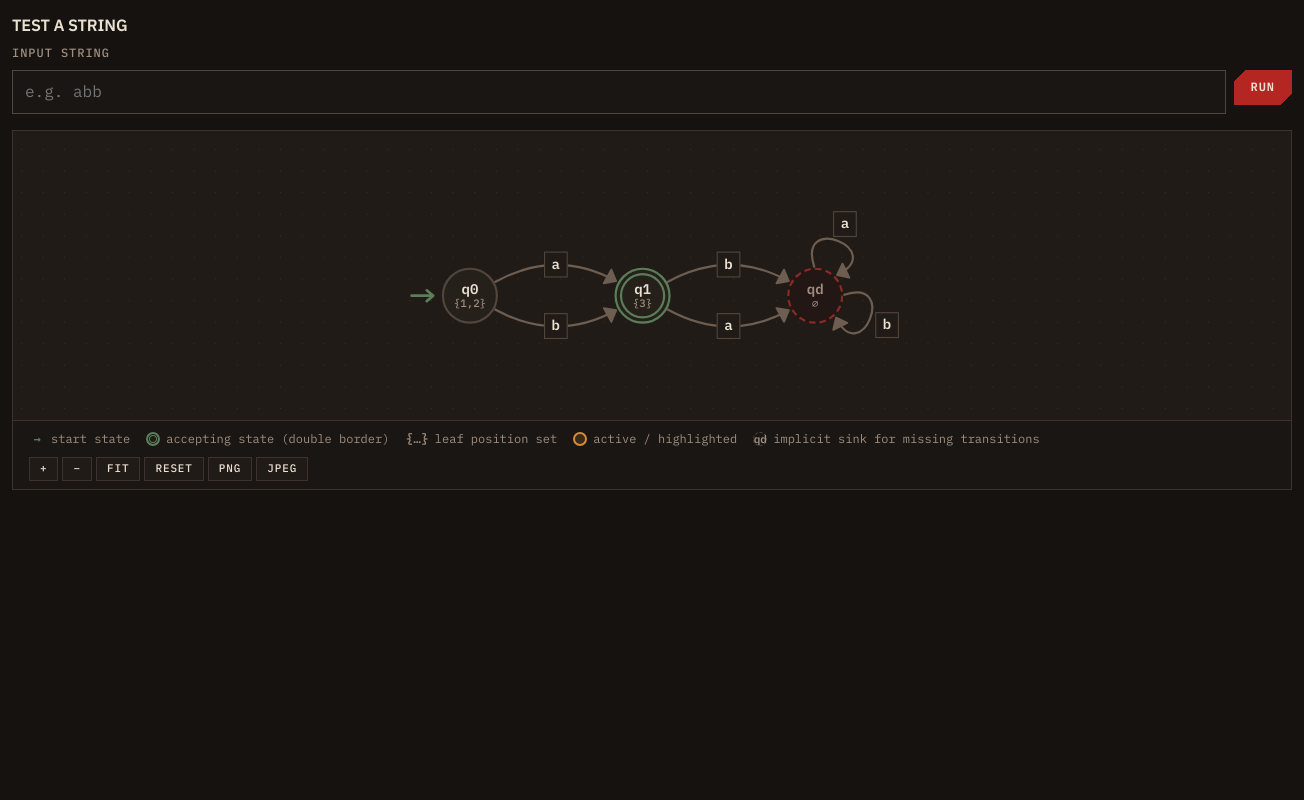
Test: <StringSimulator /> › displays specific rejection reason for out-of-alphabet and missing transitions
The width and height of the screenshot is (1304, 800).
Type "z" into the field labelled "Input string" at (619, 92), box x1=12 y1=70 x2=1226 y2=114
Then press Enter
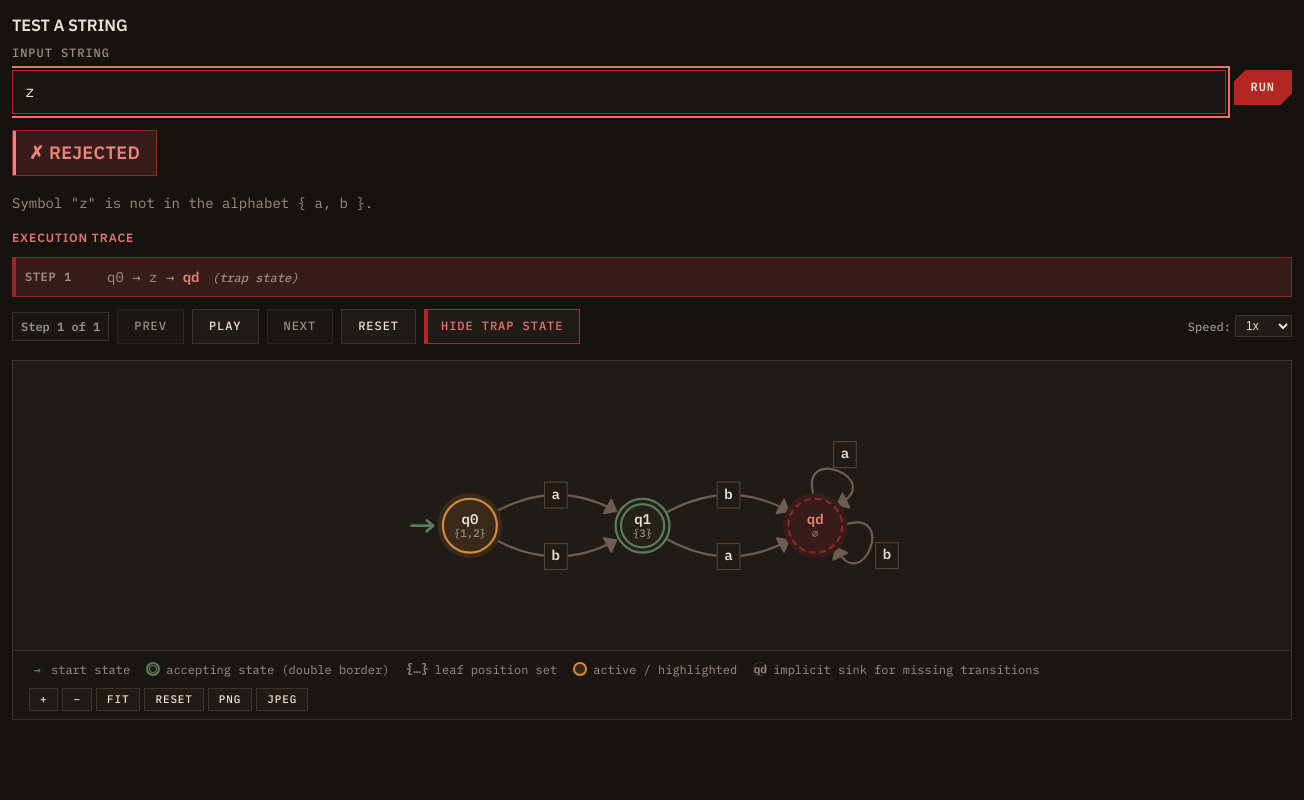
Result: the message shows "REJECTED" at x1=29 y1=141 x2=140 y2=164
Result: the text "Symbol \"z\" is not in the alphabet { a, b }." is shown at x1=12 y1=194 x2=373 y2=212
